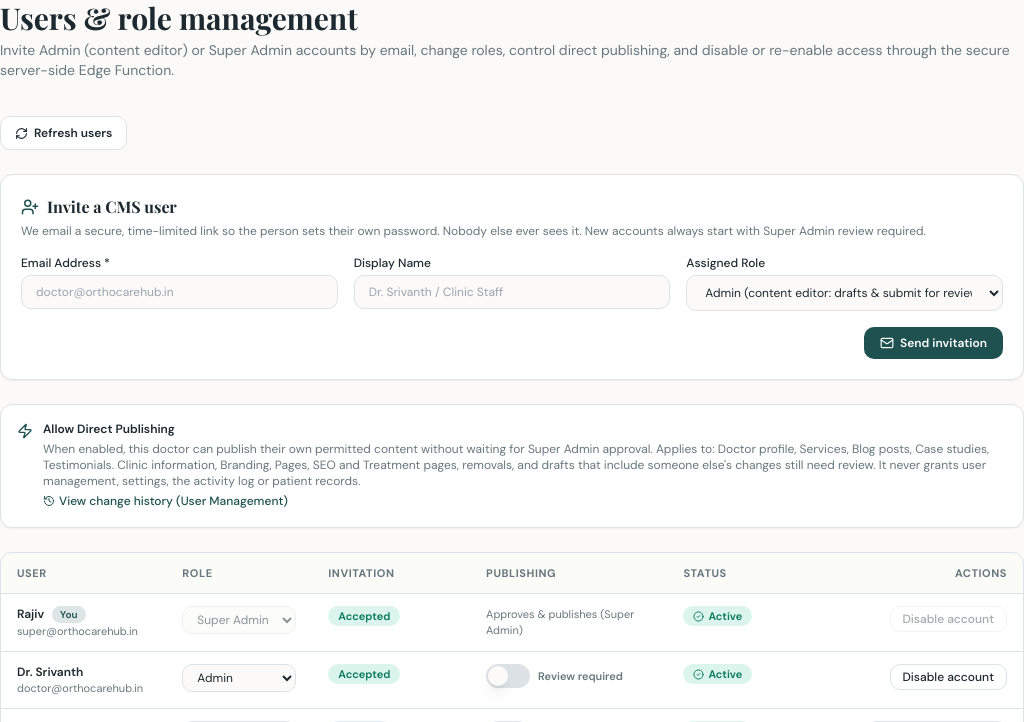
Test: Invitations › TEST 12: the invite form has no password field and sends email + role only
Check: the text "doctor@orthocarehub.in" is shown, box [17, 680, 150, 696]
Type " New.Editor@OrthoCareHub.in " into the field labelled "Email Address *". click: [179, 292]
box: [21, 275, 338, 309]
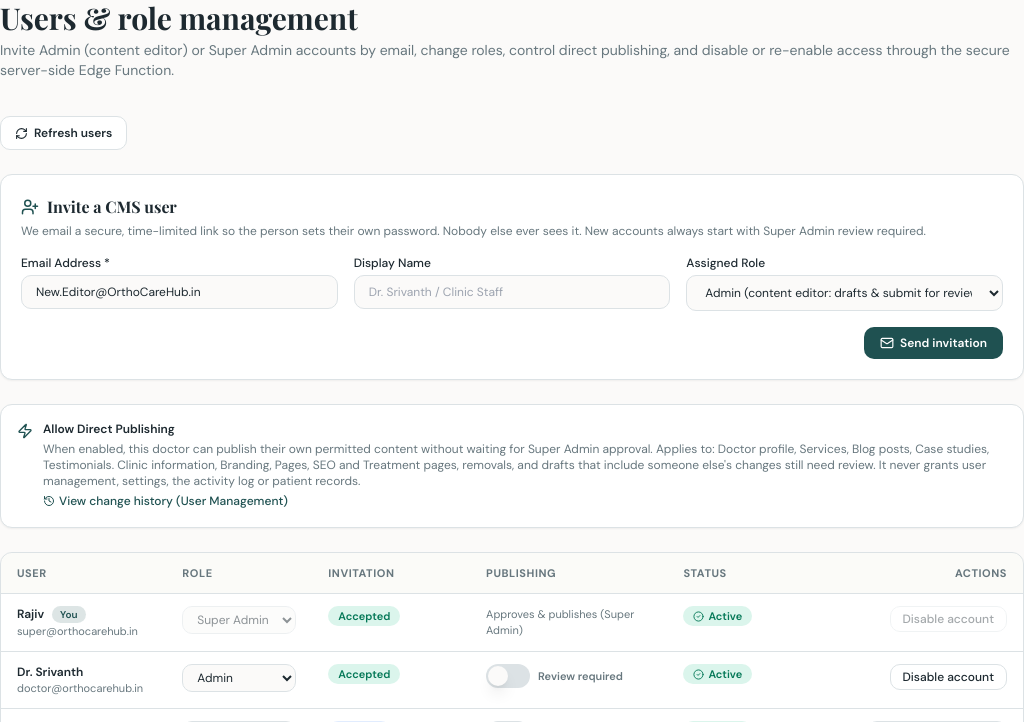
Type "Reception" into the field labelled "Display Name". click: [512, 292]
box: [354, 275, 670, 309]
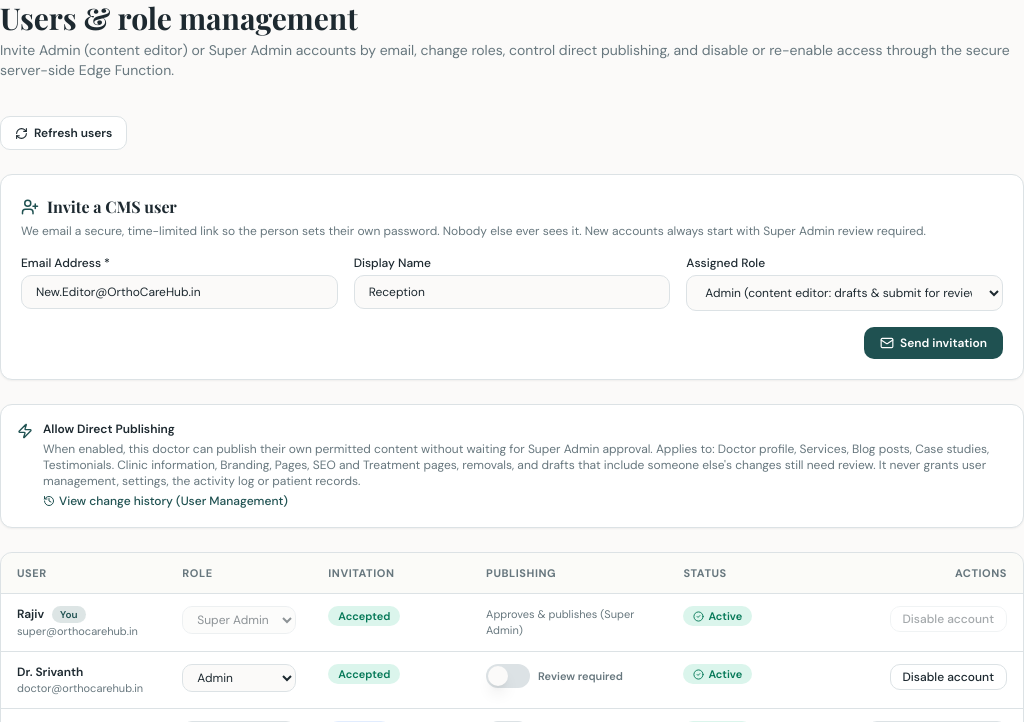
Click the button "Send invitation". click: [933, 343]
box: [864, 327, 1003, 359]
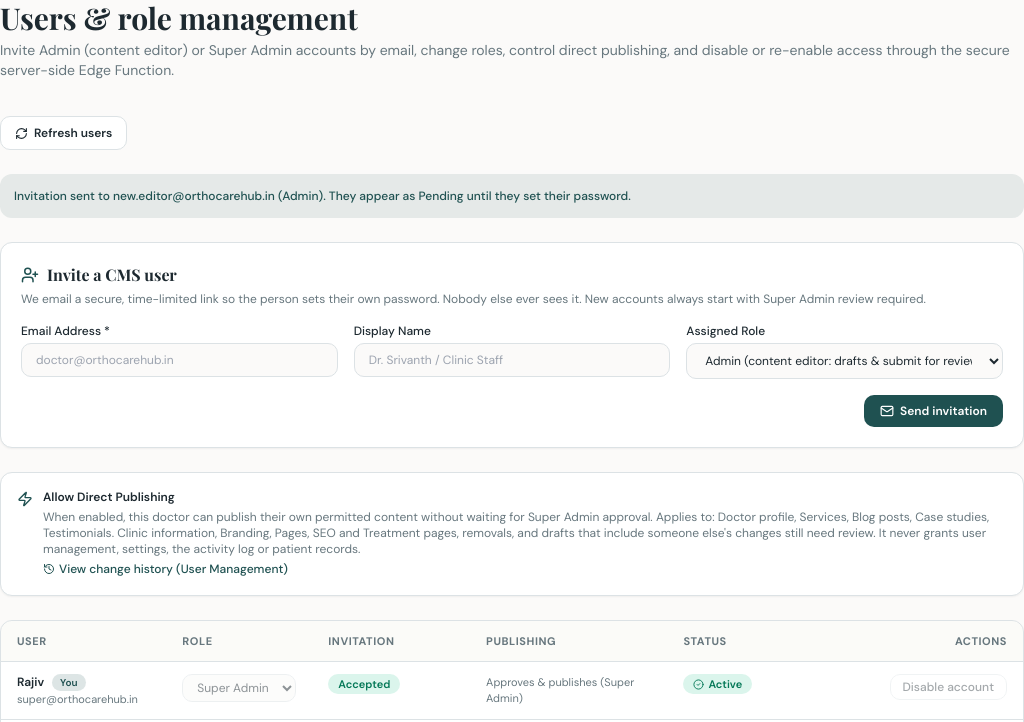
Check: the text "Invitation sent to new.editor@orthocarehub.in" is shown, box [14, 188, 631, 204]
